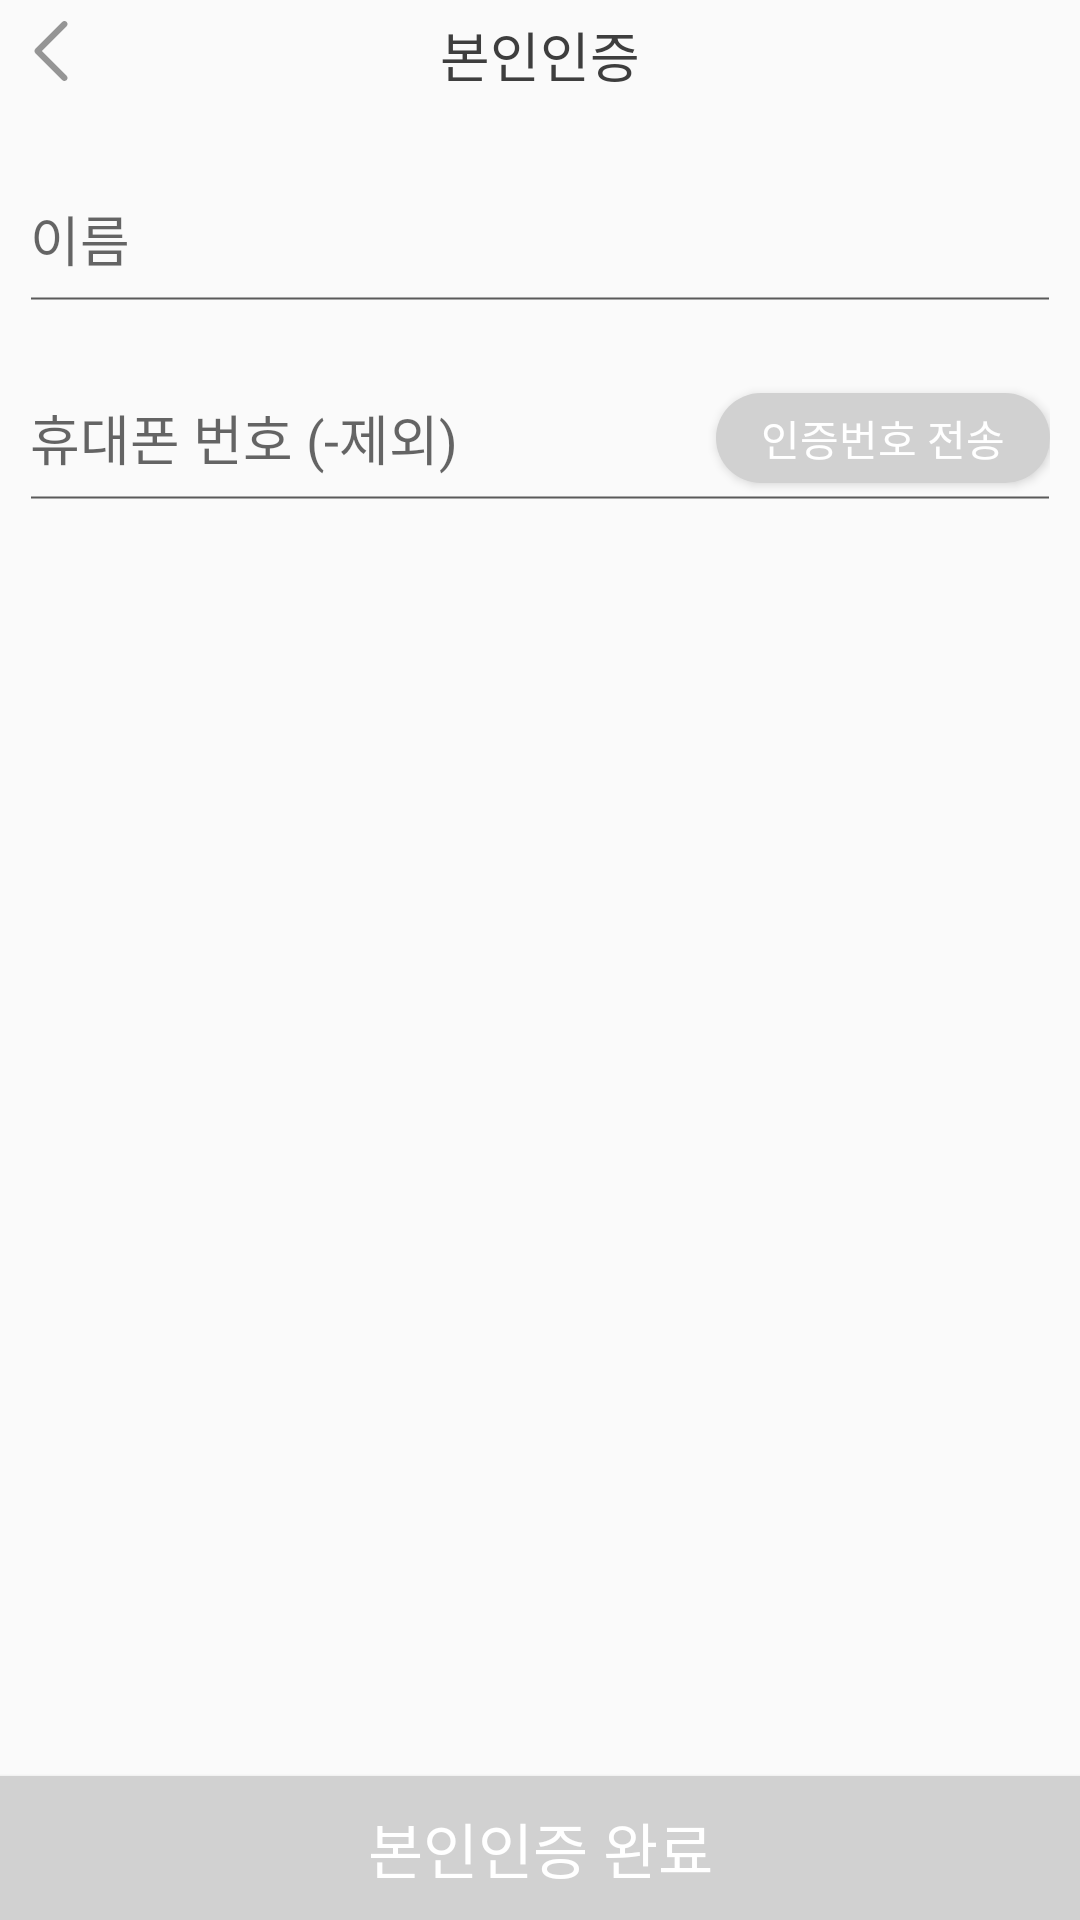

Named icons in this screenshot (1080x1920) and their centers, (x=x, y=y):
chevron left: (x=51, y=51)
